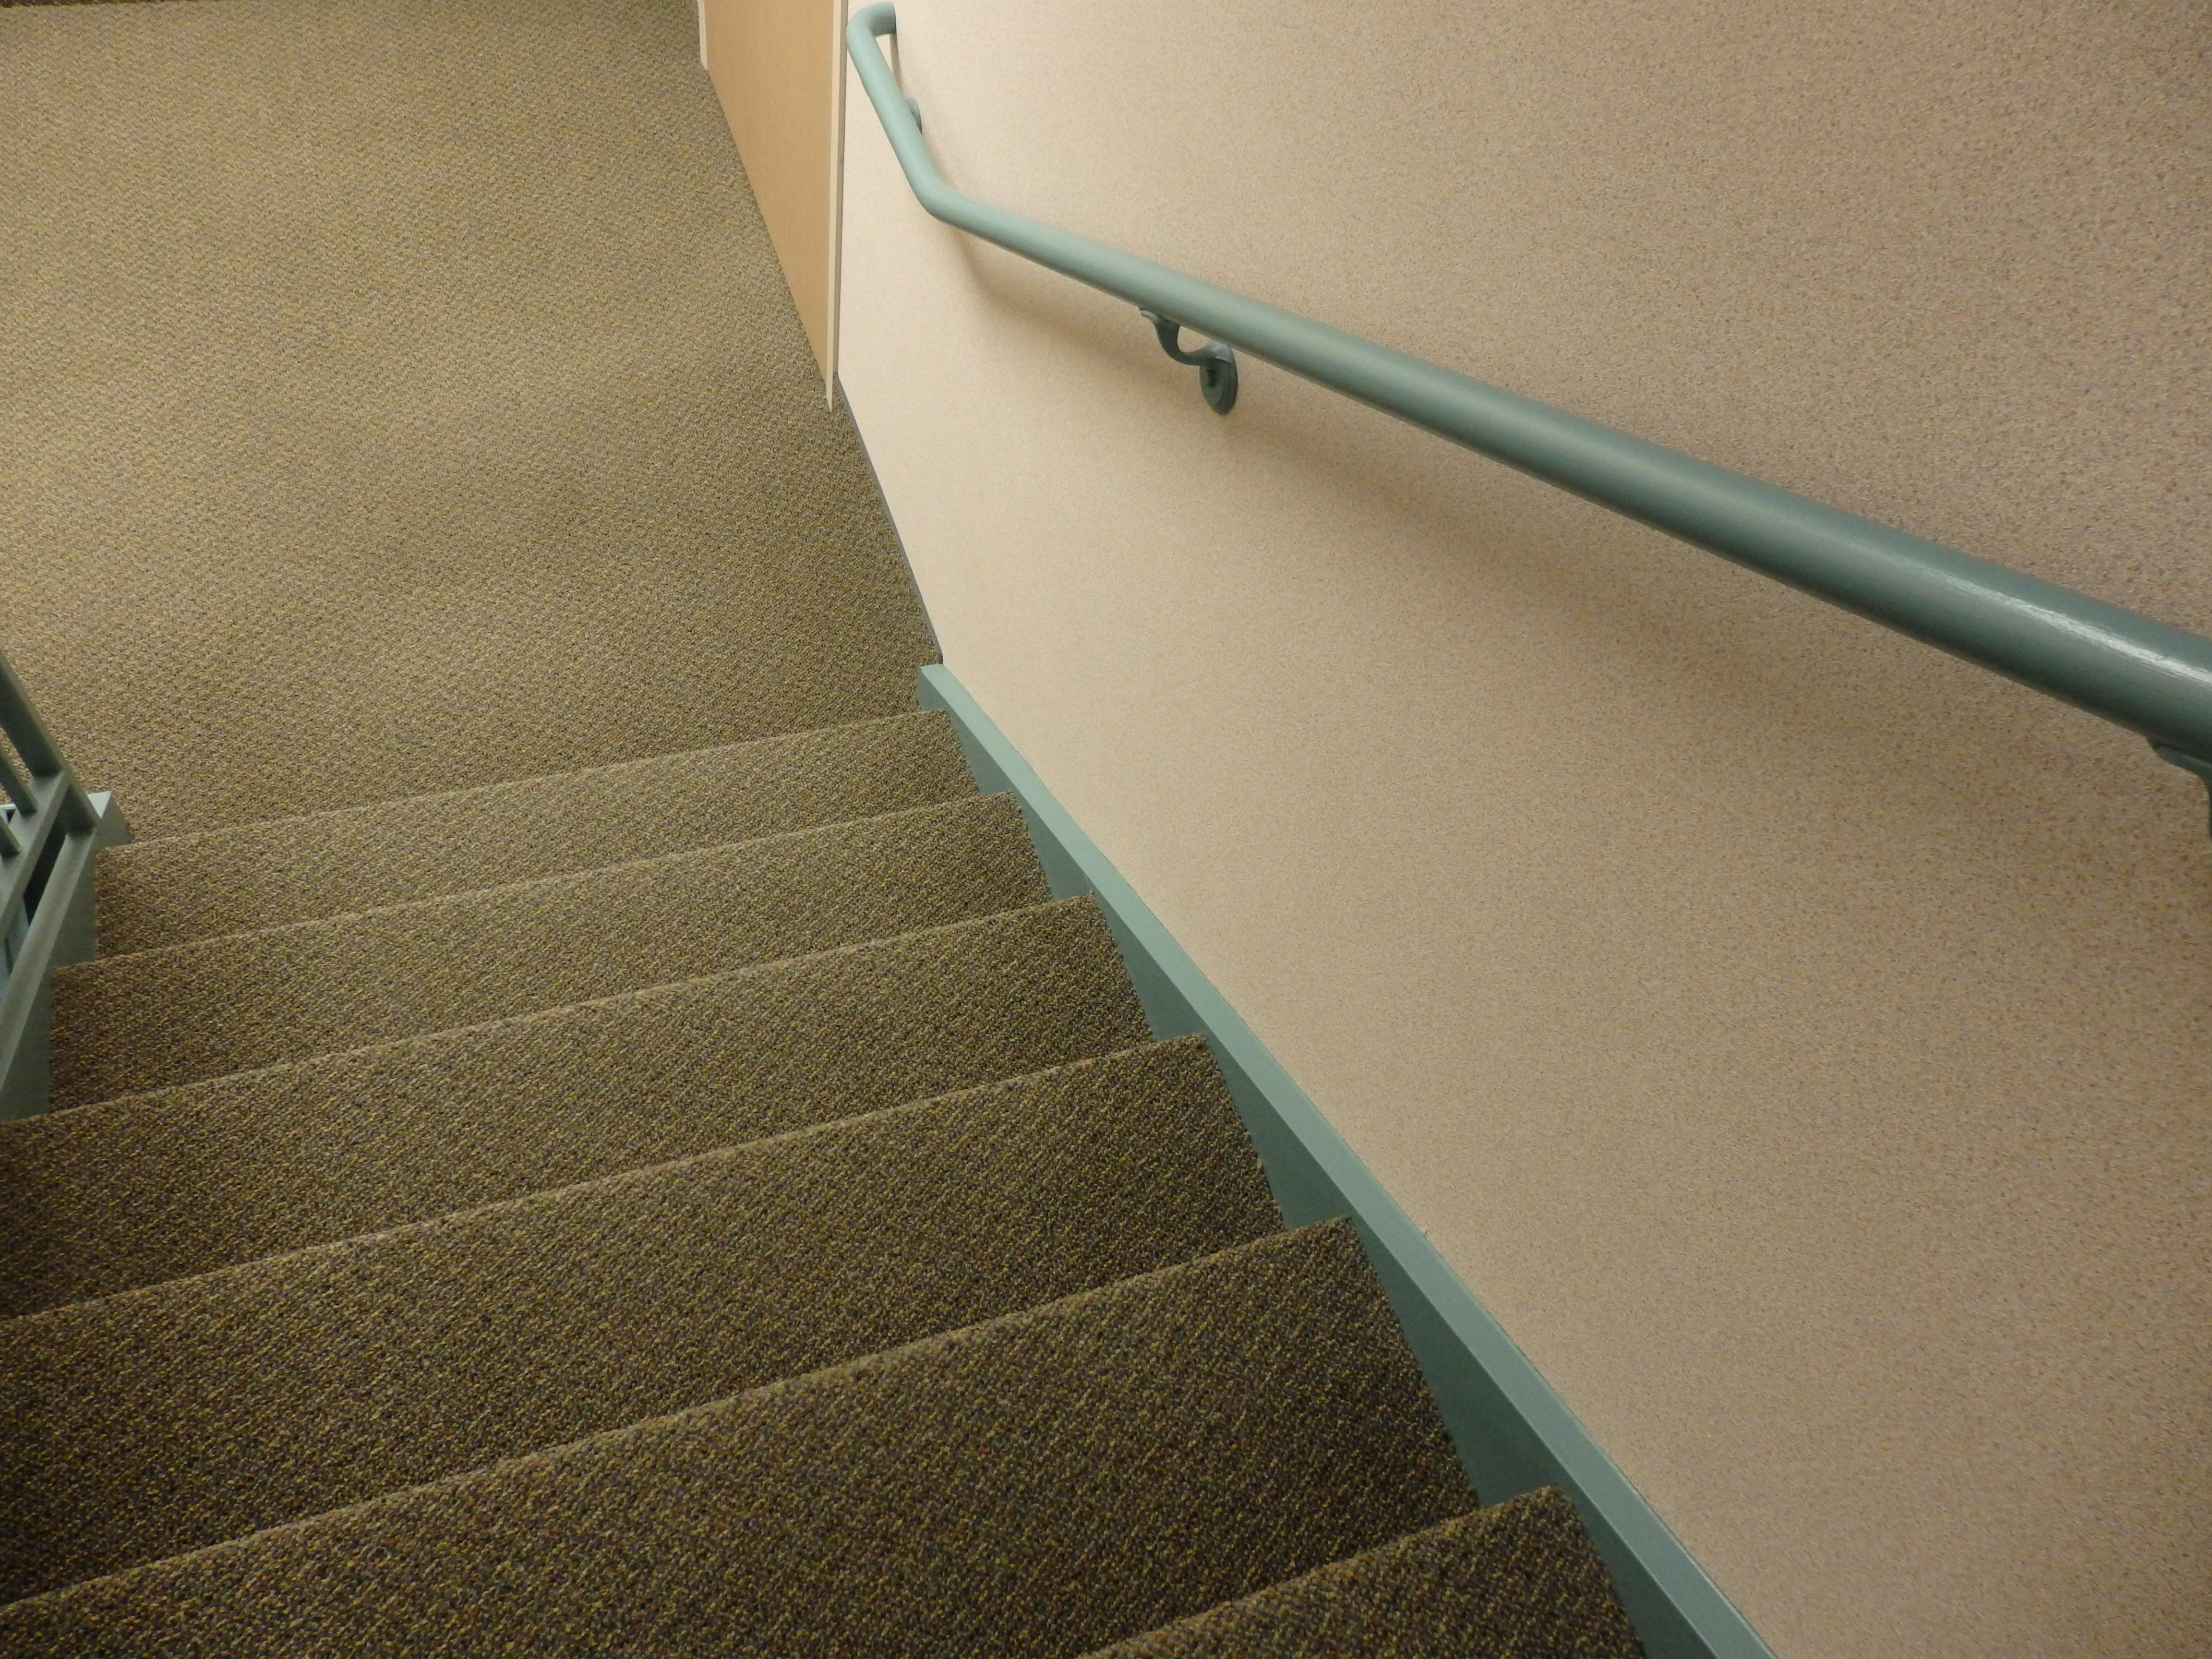stairs_down: (92, 779, 1404, 1642)
